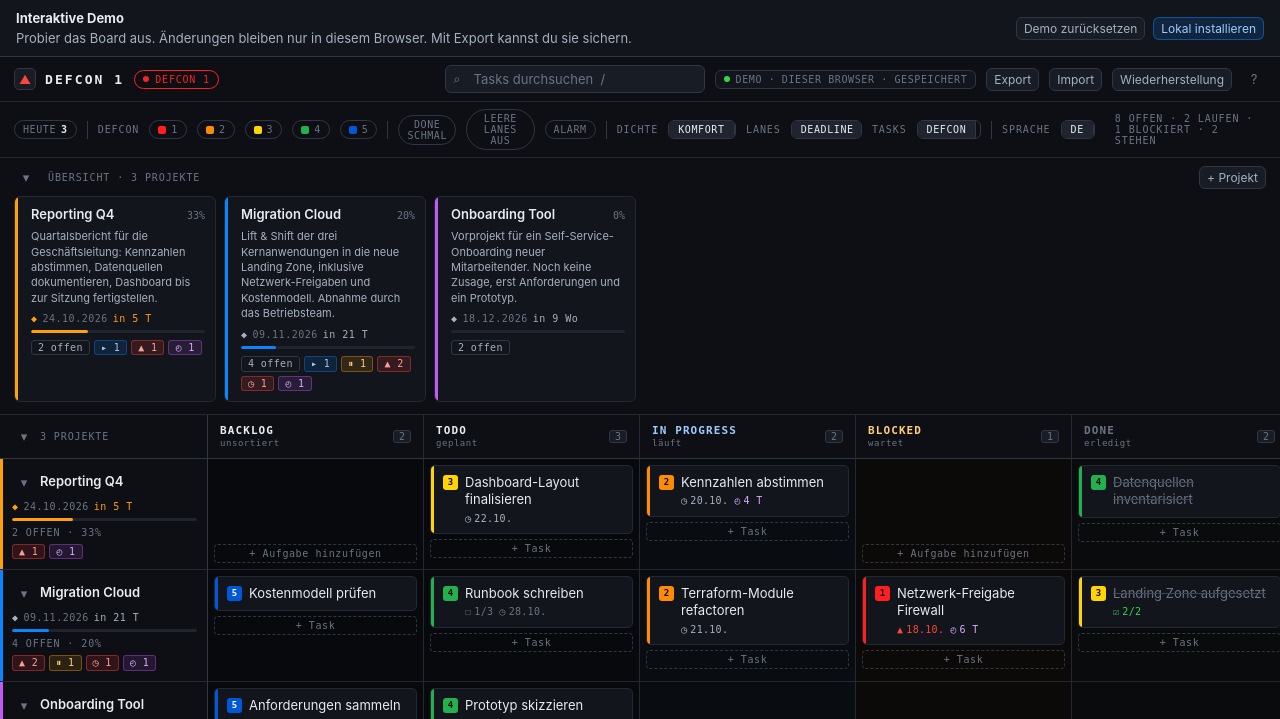
Test: browser demo › labels the demo, loads translated examples and resets the board after confirmation
The image size is (1280, 719).
Expected: the text "Terraform-Module refactoren" is shown, [681, 585, 794, 618]
Expected: the element "Interaktive Demo" is shown, [0, 0, 1279, 57]
Type "no matching task" into the field labelled "Tasks durchsuchen". click: (574, 79)
box: [444, 65, 704, 93]
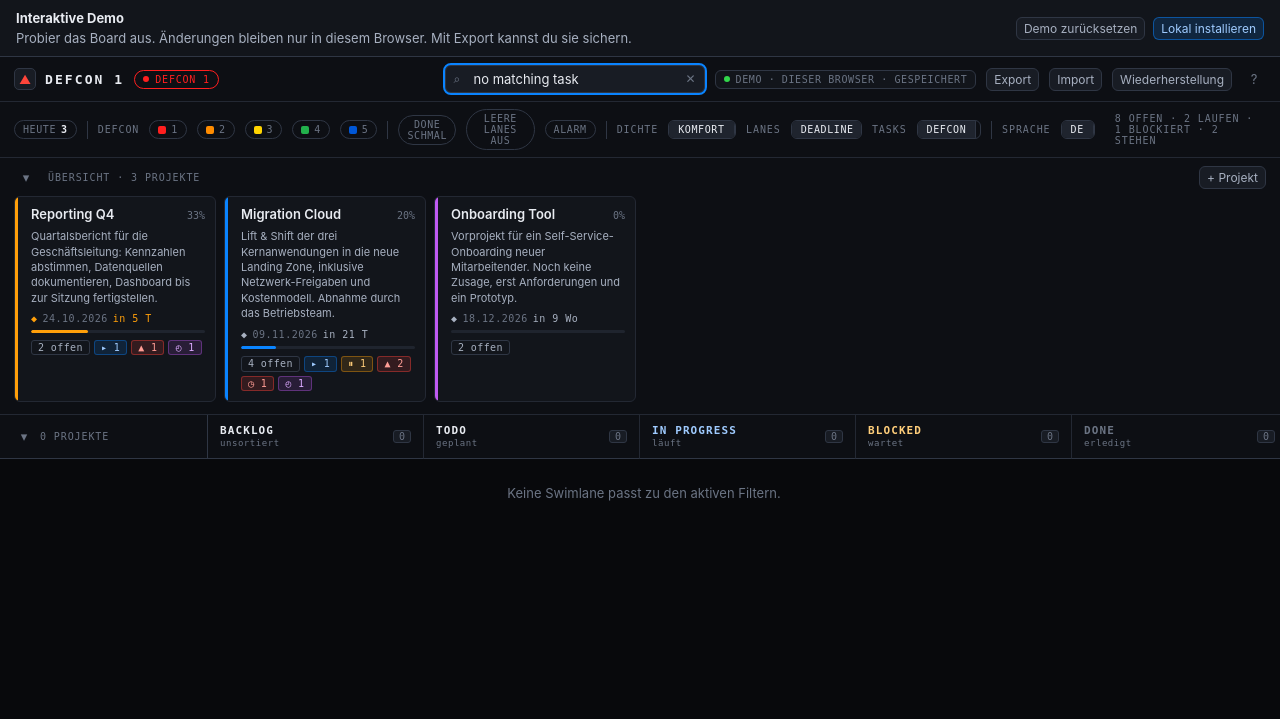
Click the button "Demo zurücksetzen". click: (1081, 28)
box: [1016, 16, 1145, 40]
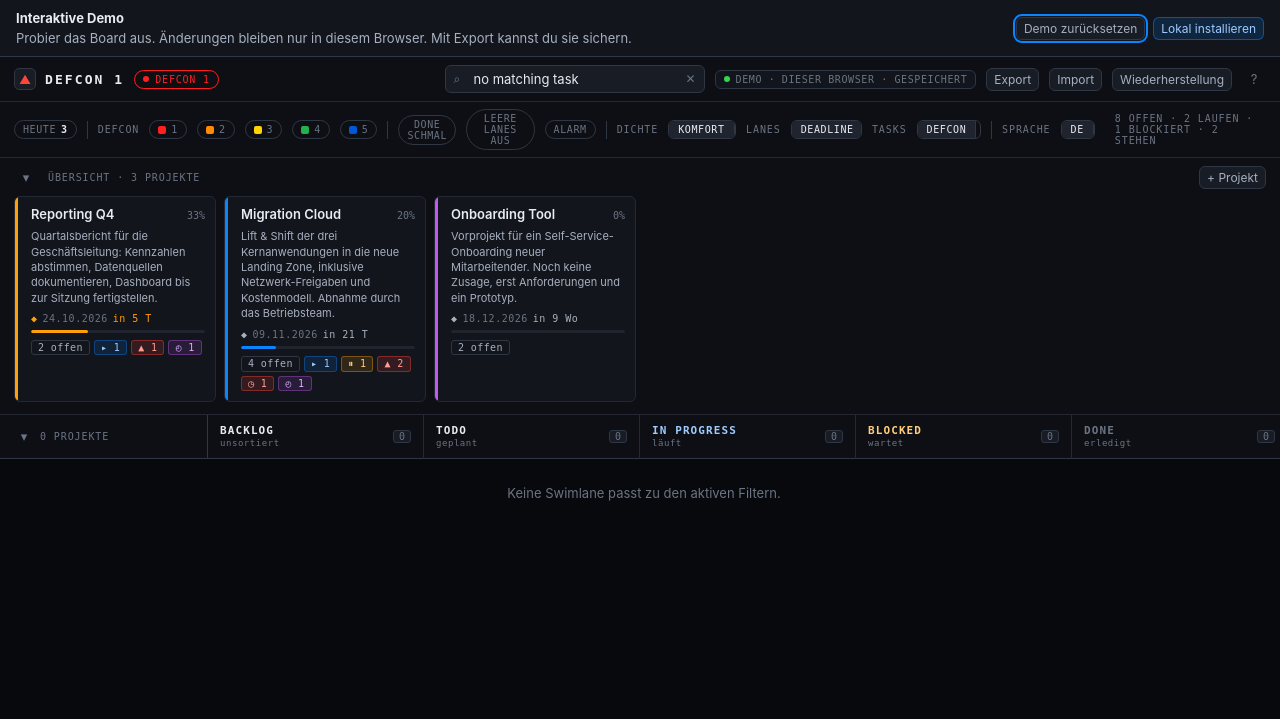
Expected: the button "Terraform-Module refactoren" is not shown
Click the button "Demo zurücksetzen". click: (1081, 28)
box: [1016, 16, 1145, 40]
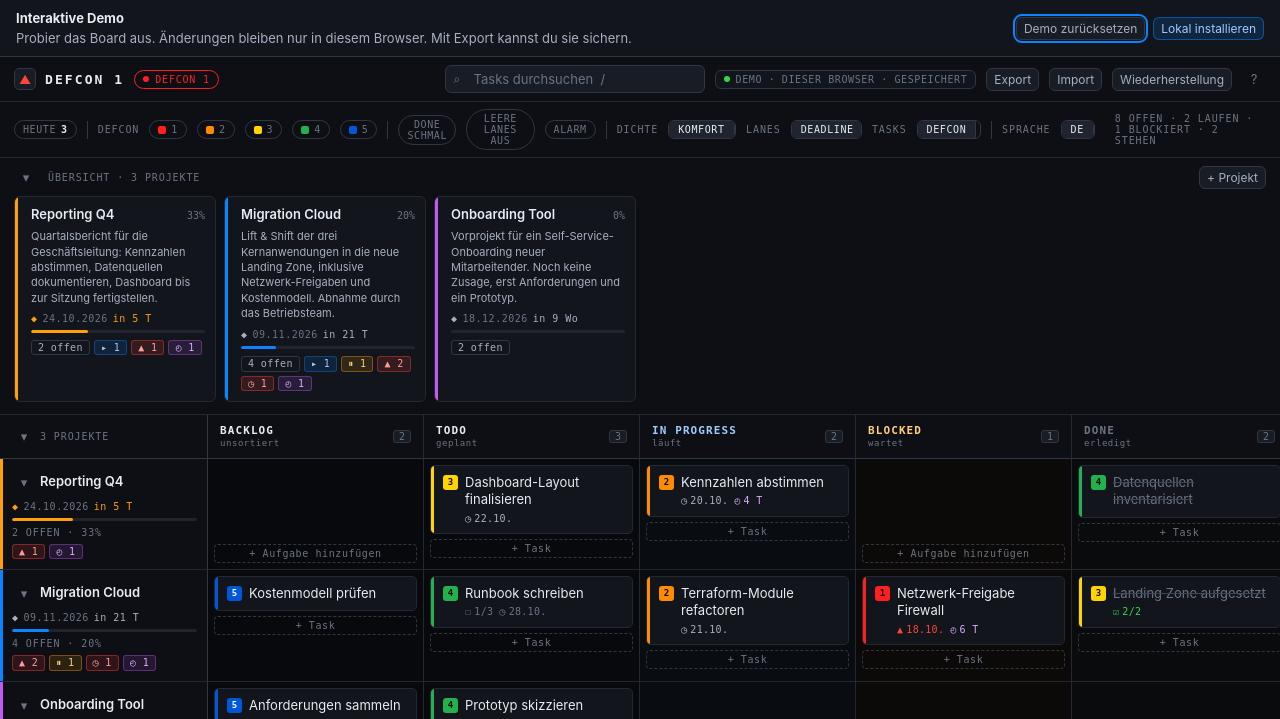
Expected: the text "Terraform-Module refactoren" is shown, [681, 585, 794, 618]
